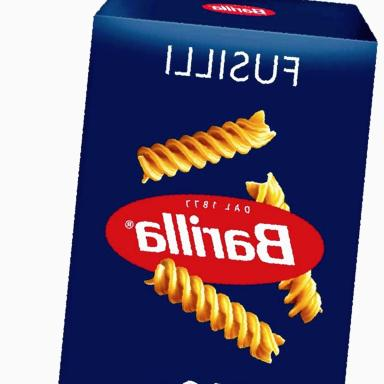pasta package: (60, 0, 375, 383)
